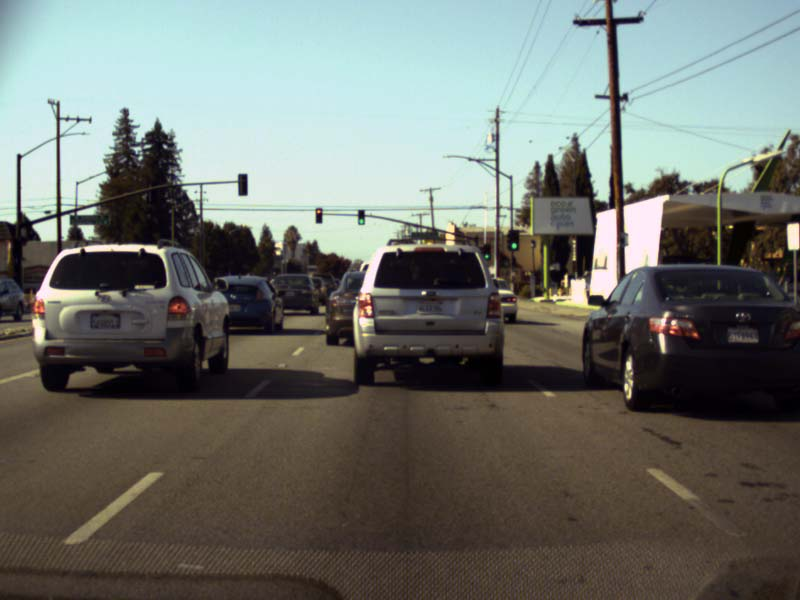Green: (507, 229, 518, 250), (357, 209, 365, 225), (483, 243, 490, 260)
Red: (315, 208, 322, 223)
